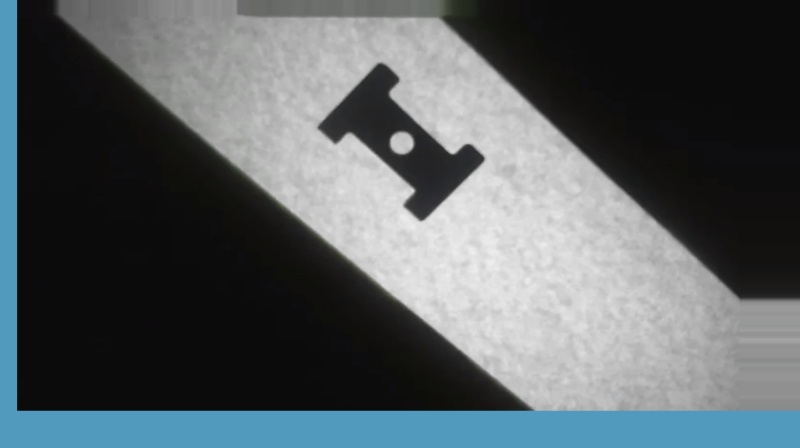O002: (313, 59, 488, 222)
